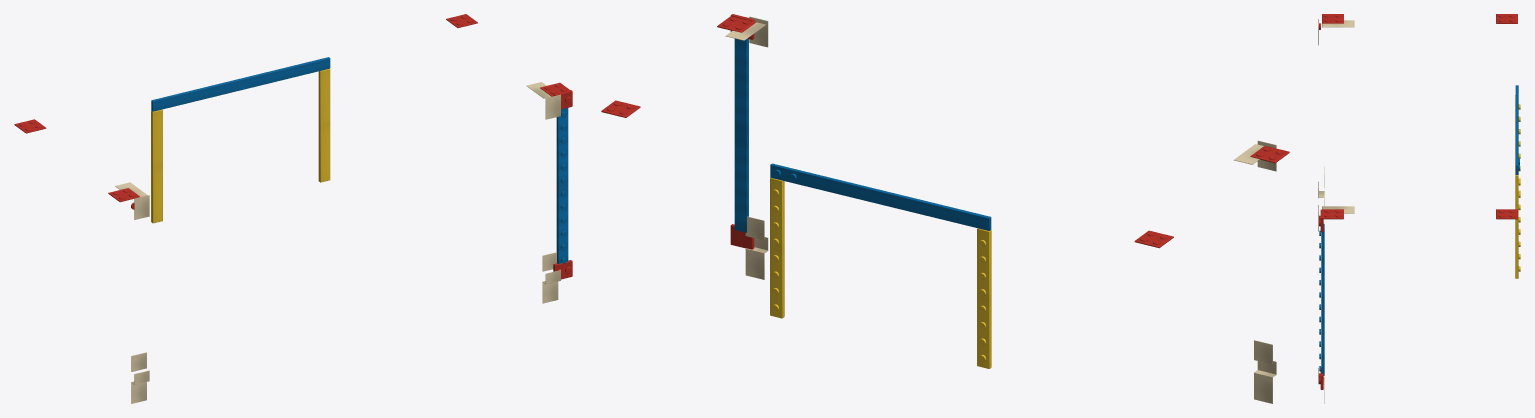
File: 14-toy-brick-trims-and-join-tape-2.fbx
3 renders of one model, left to right at view 1: azimuth 30°, elevation 25°; view 2: azimuth 150°, elevation 25°; view 3: azimuth 270°, elevation 25°, orthographic. The views are drawn at different scales.
Parts seen in each view (by area): view 1: toy-brick-trims-and-join-tape-2; view 2: toy-brick-trims-and-join-tape-2; view 3: toy-brick-trims-and-join-tape-2.
Boxes of the visible parts, bbox=[...] form: toy-brick-trims-and-join-tape-2: bbox=[14, 14, 572, 403]; toy-brick-trims-and-join-tape-2: bbox=[601, 14, 1289, 403]; toy-brick-trims-and-join-tape-2: bbox=[1318, 14, 1520, 403].
Size of the model in its own units: 17800 by 7800 by 7433.
1 material, 1 textured.
